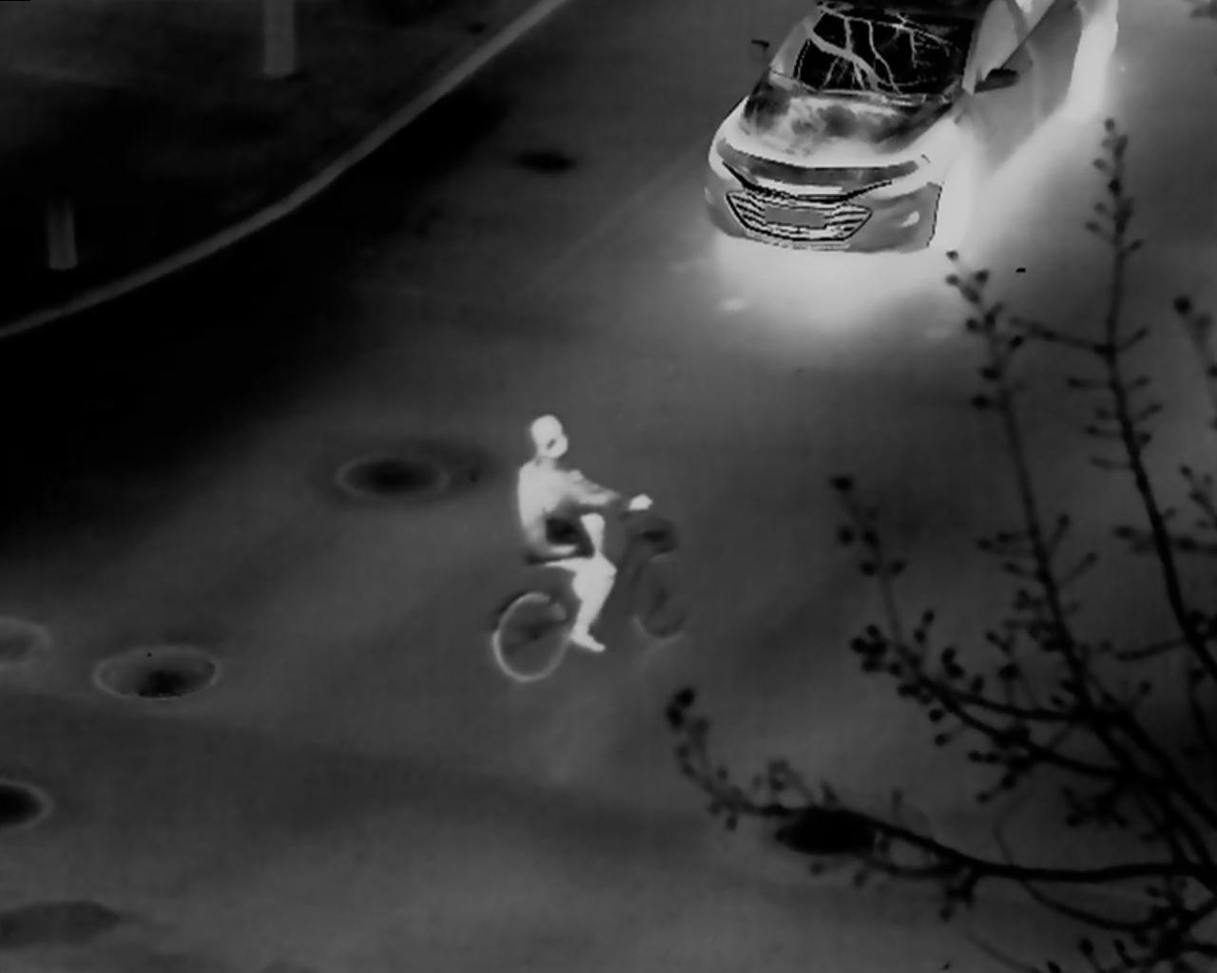person: (517, 414, 653, 653)
